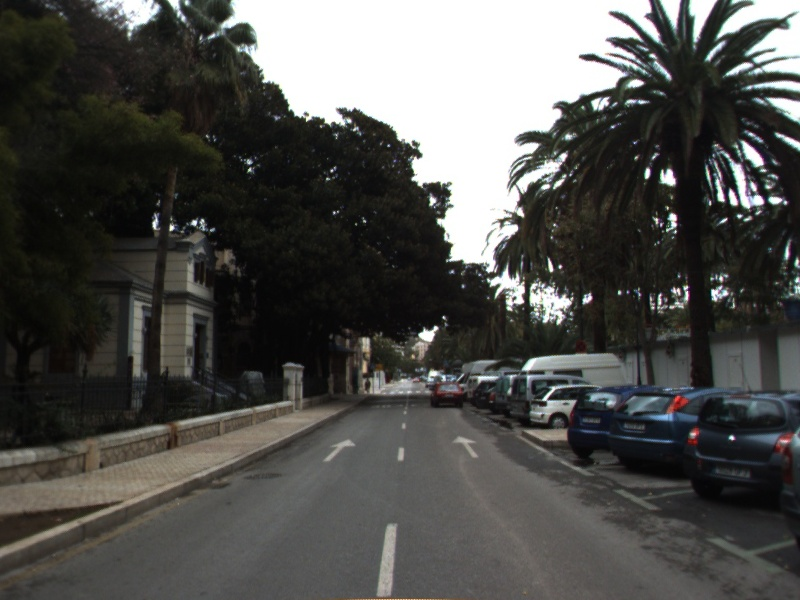STRAIGHT: (321, 437, 358, 464), (450, 433, 482, 460)
